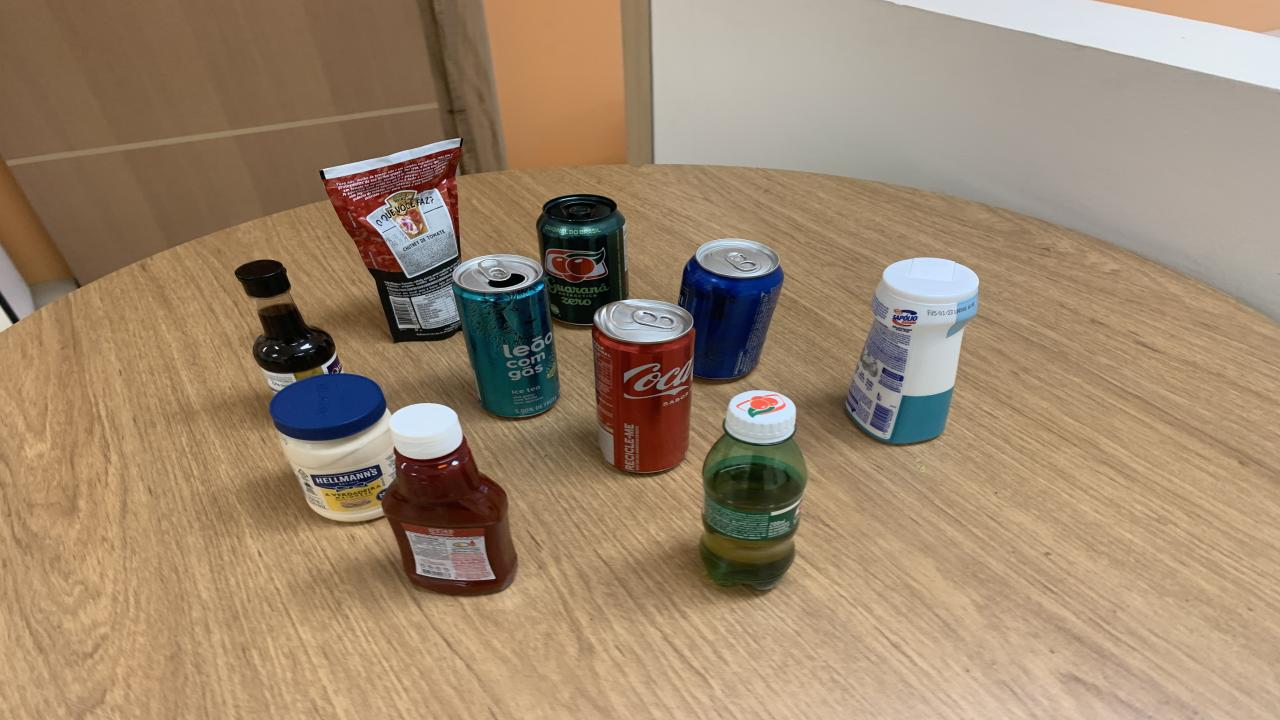Cleaner-Cleanup_Items: (845, 257, 978, 444)
Coke-Drinks: (592, 300, 695, 472)
English_Sauce-Pantry_Items: (235, 259, 342, 392)
Guarana-Drinks: (700, 390, 808, 589)
Guarana_Can-Drinks: (538, 195, 628, 324)
Ketchup-Pantry_Items: (382, 403, 518, 594)
Mayonnaise-Pantry_Items: (270, 373, 395, 521)
Tea-Drinks: (452, 255, 560, 418)
Tomato_Sauce-Pantry_Items: (320, 139, 460, 341)
Tonic-Drinks: (678, 238, 782, 379)
